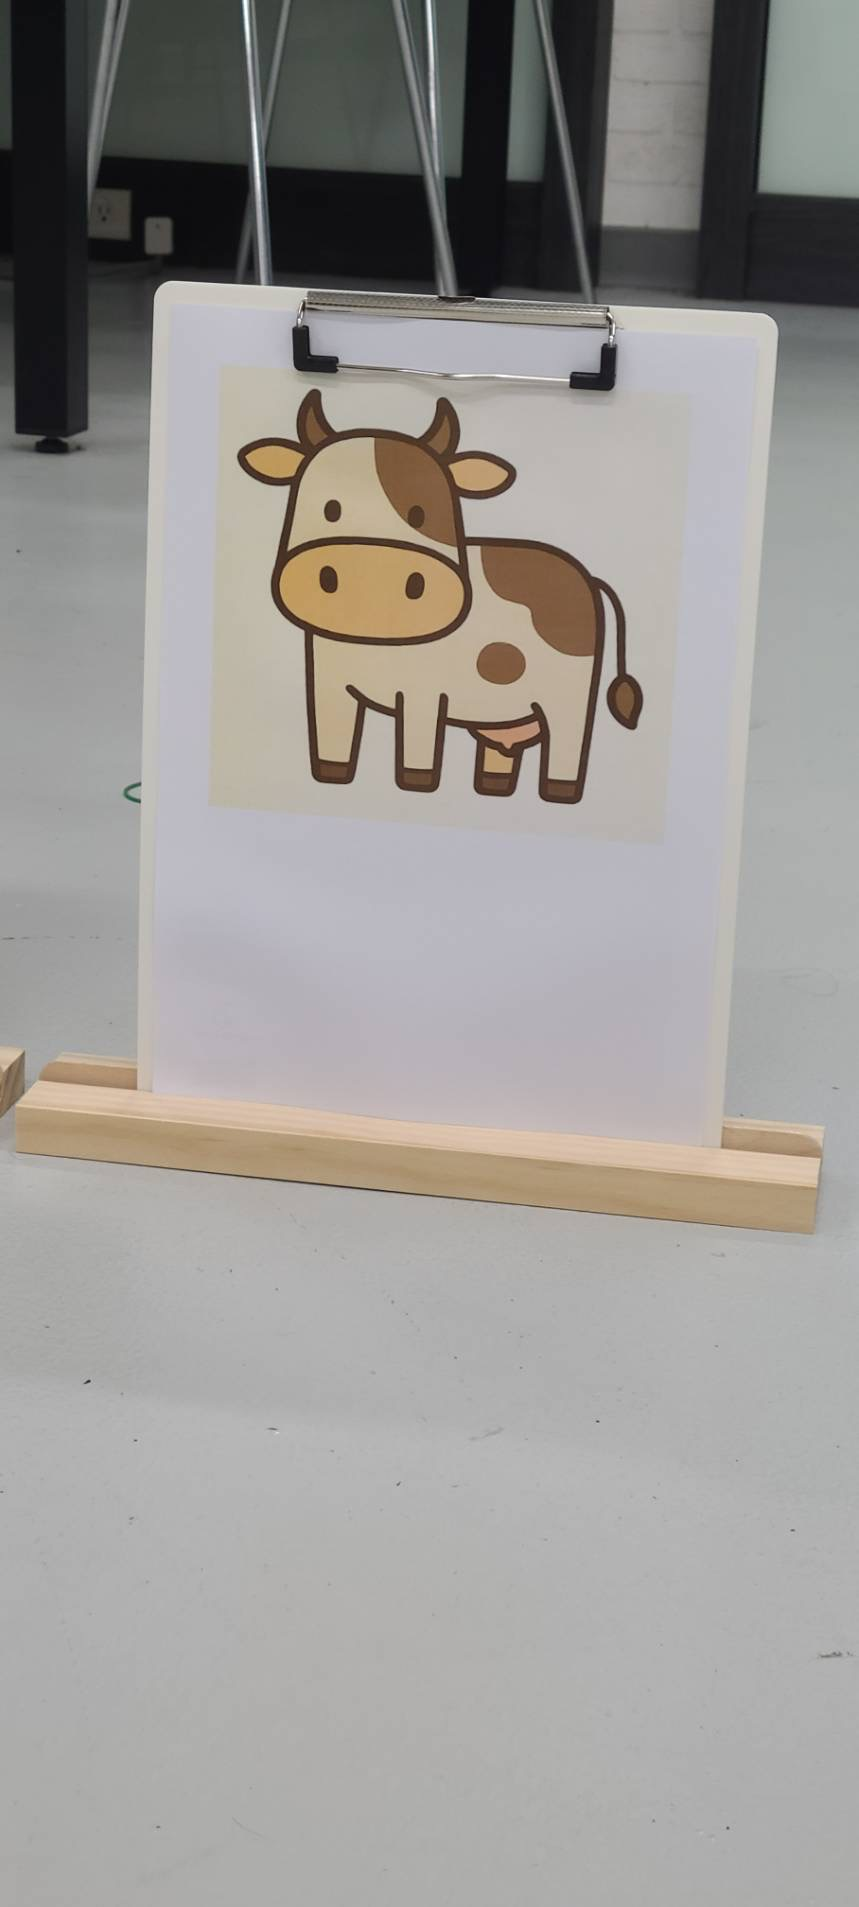cow: (232, 379, 641, 819)
